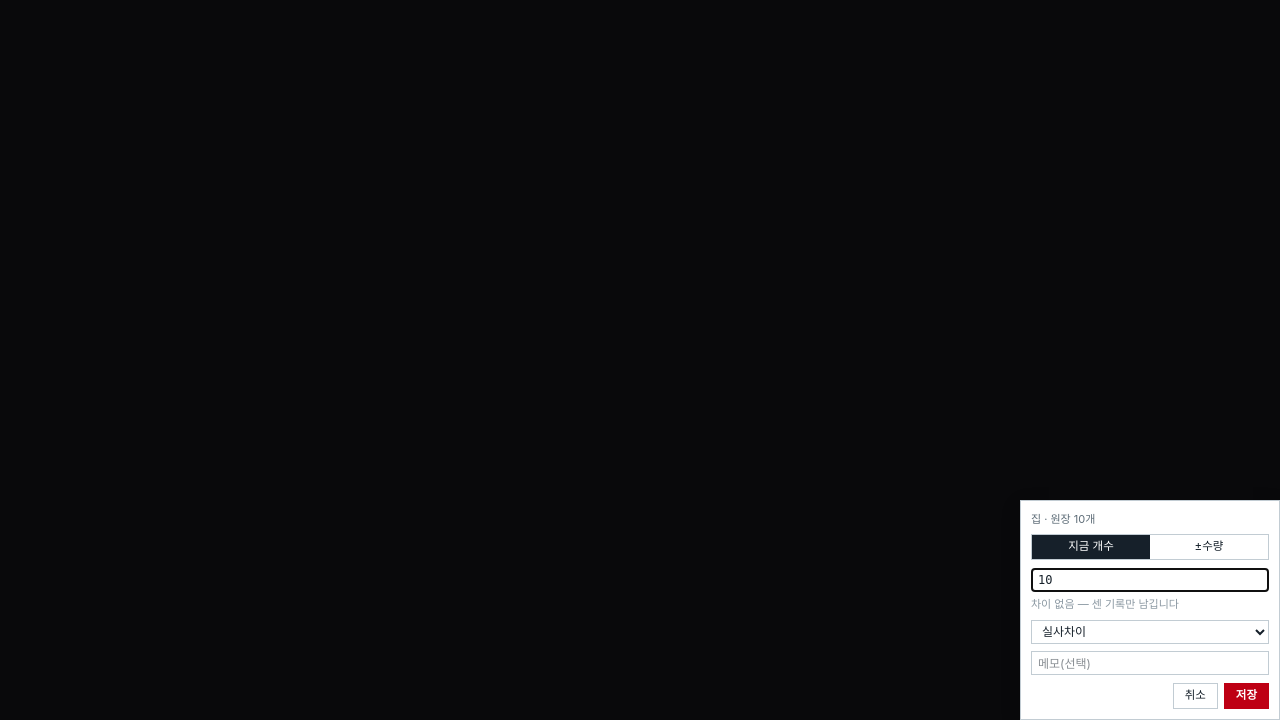
Test case: EditCell › 단가를 모르면 늘리는 저장이 막힌다
This screenshot has width=1280, height=720.
(page scrolled)
Replace the text in the field named "지금 개수" with "12" at coordinates (1150, 580), box [1031, 568, 1269, 592]
(page scrolled)
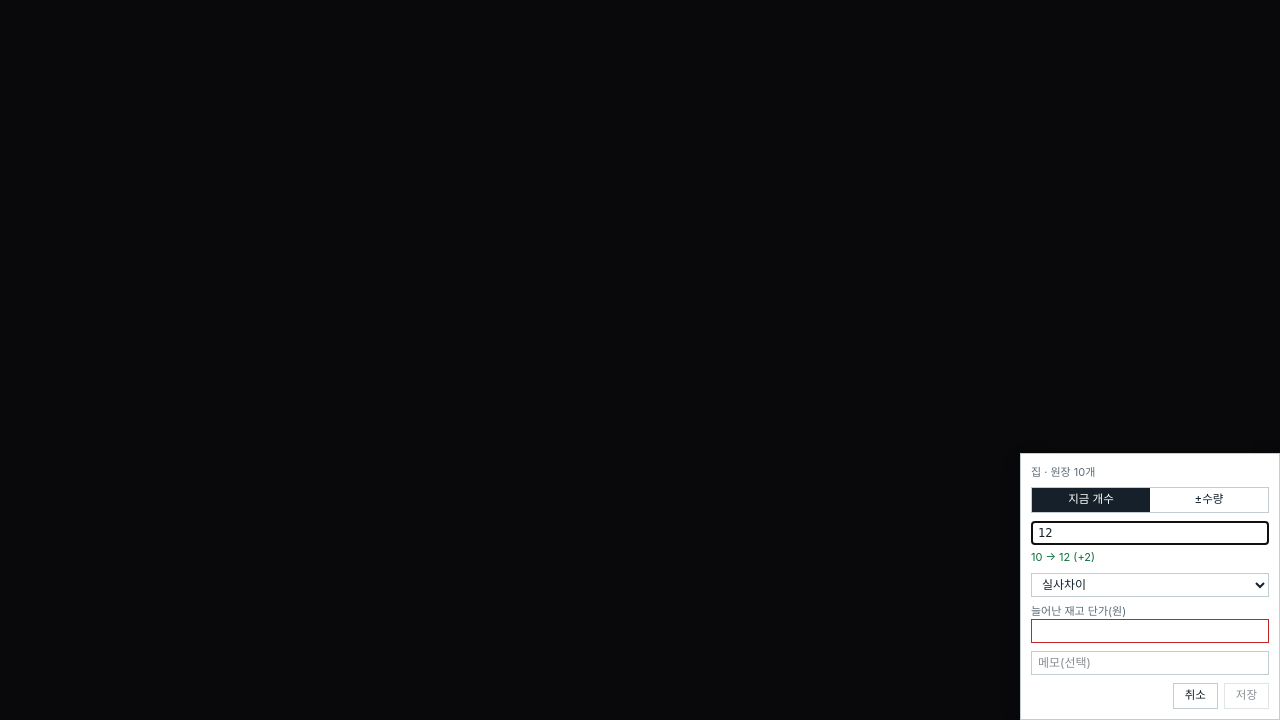
Expected: the button "저장" is disabled, [1224, 682, 1269, 708]
